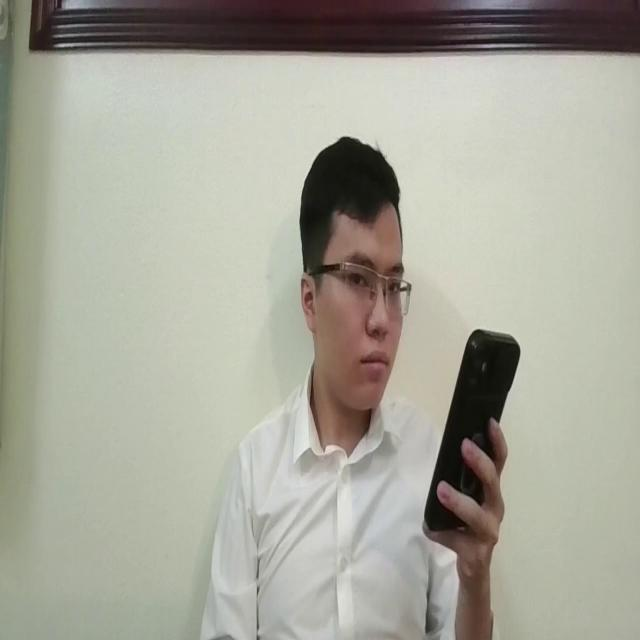phone: (417, 324, 521, 536)
student: (188, 133, 508, 640)
